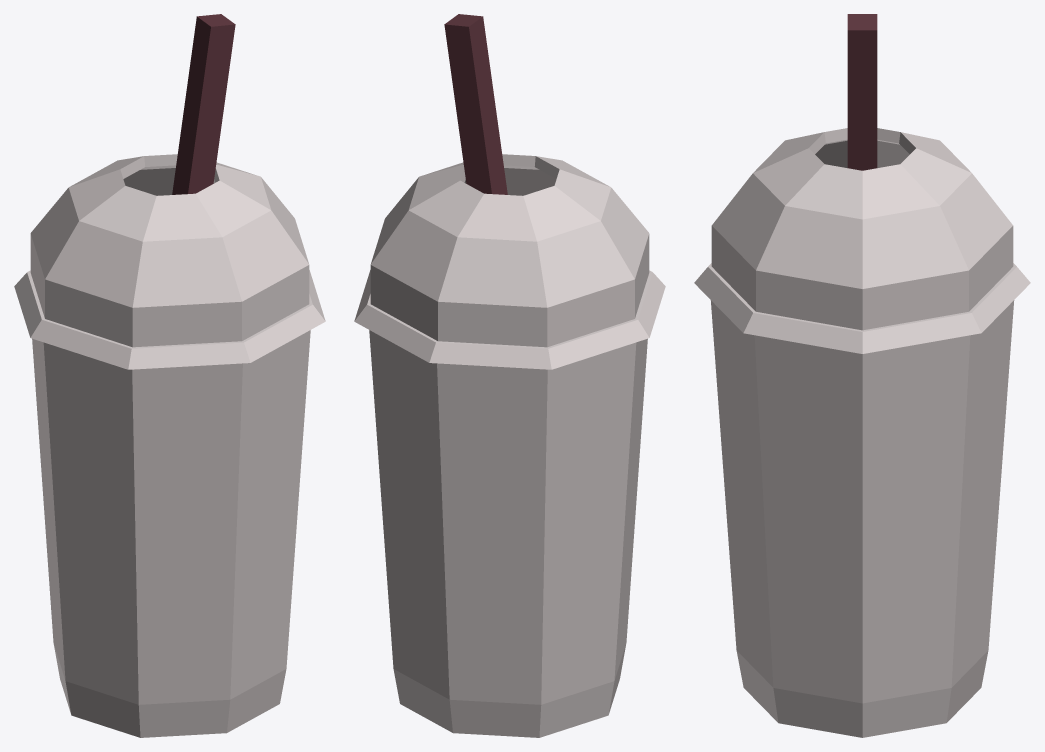
Rendered from cup-plastic-lid.fbx.
3 views of the same model, side by side, from view 1: azimuth 30°, elevation 25°; view 2: azimuth 150°, elevation 25°; view 3: azimuth 270°, elevation 25° (orthographic). The views are drawn at different scales.
Parts seen in each view (by area): view 1: cup-plastic-lid; view 2: cup-plastic-lid; view 3: cup-plastic-lid.
Boxes of the visible parts, x1=… form: cup-plastic-lid: x1=14, y1=14, x2=325, y2=737; cup-plastic-lid: x1=354, y1=14, x2=665, y2=737; cup-plastic-lid: x1=694, y1=14, x2=1030, y2=737.
Size of the model in its own units: 0.1094 by 0.2475 by 0.1094.
